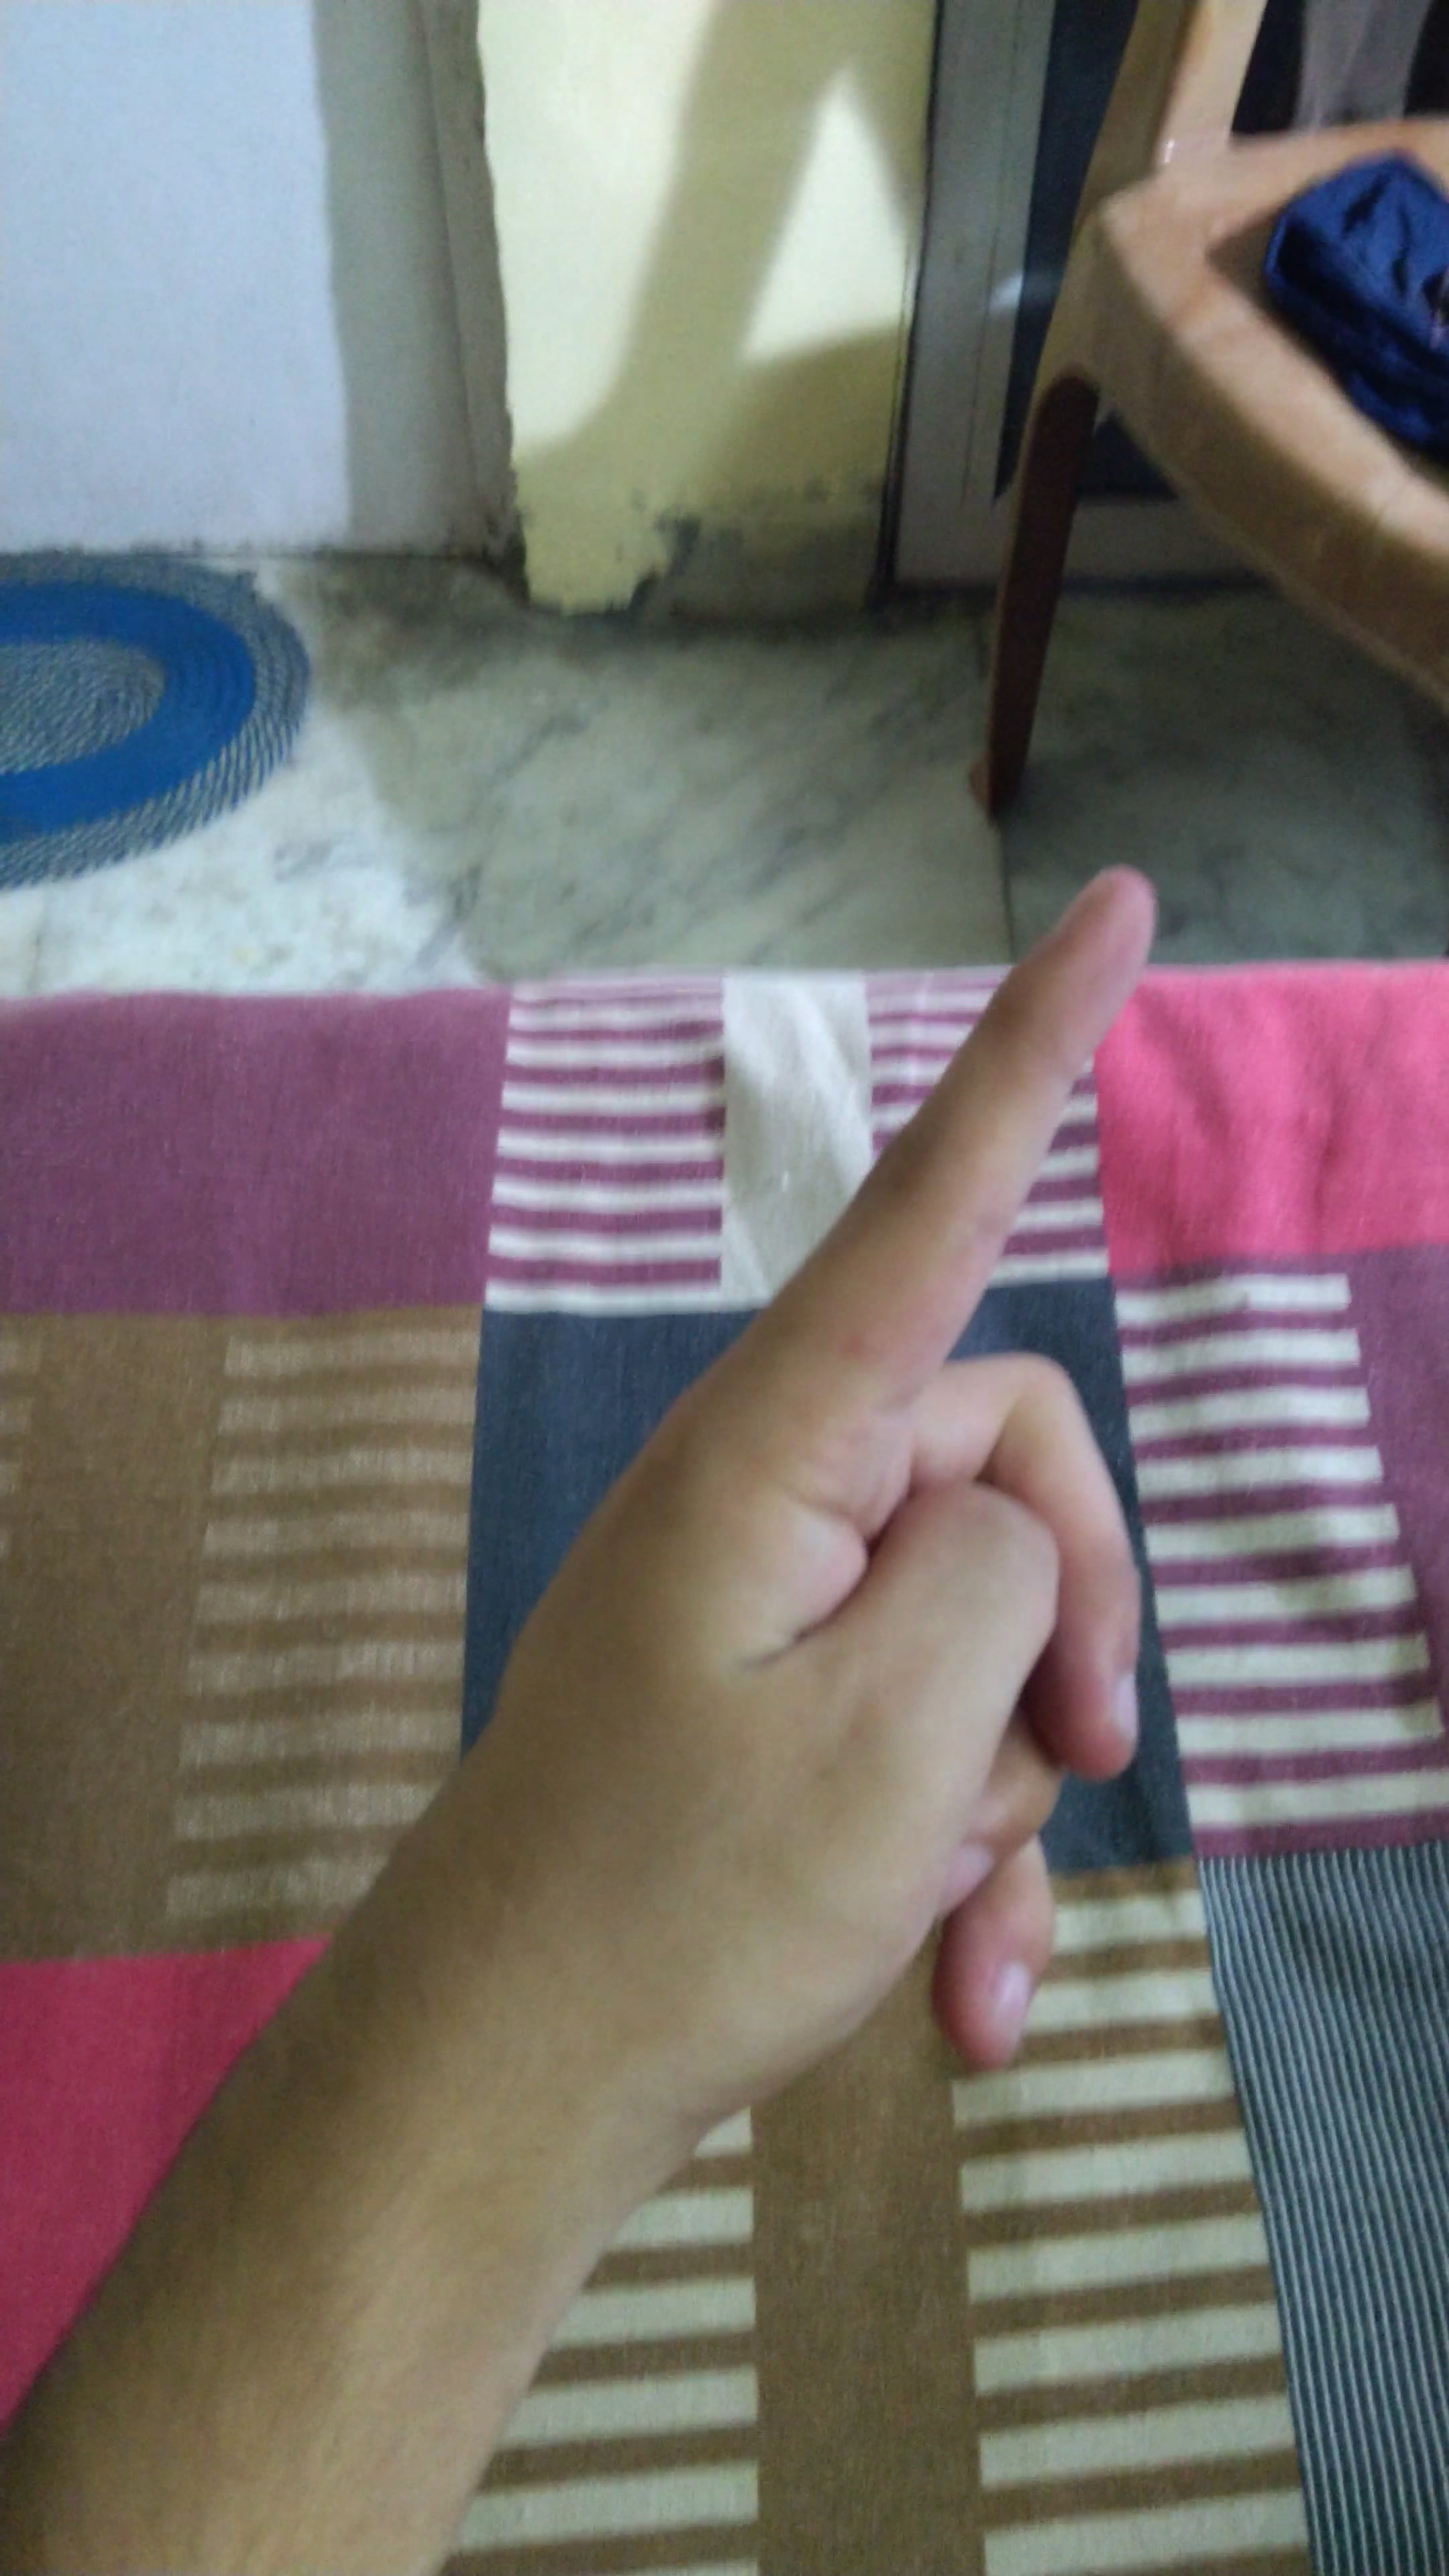hand: (396, 826, 1270, 2174)
